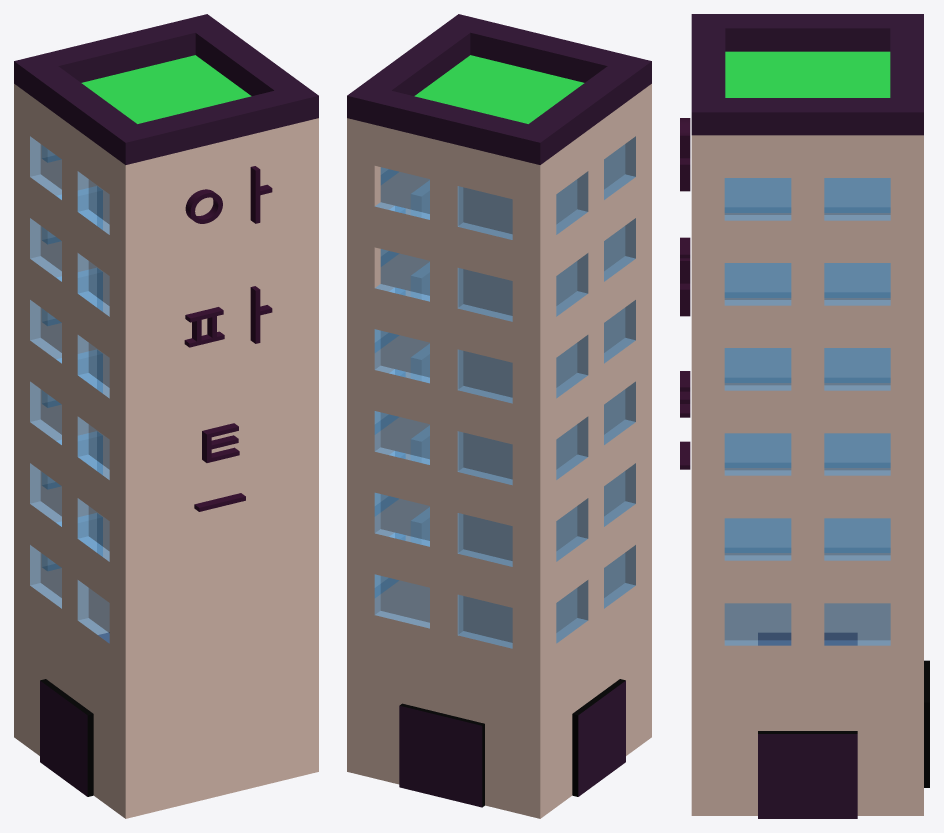
File: apartment.glb
3 views of the same model, side by side, from view 1: azimuth 30°, elevation 25°; view 2: azimuth 150°, elevation 25°; view 3: azimuth 270°, elevation 25° (orthographic). The views are drawn at different scales.
Parts seen in each view (by area): view 1: Cube, Text; view 2: Cube; view 3: Cube, Text.
Part boxes in pixels (bbox=[...]): Cube: bbox=[14, 14, 318, 818]; Text: bbox=[184, 166, 272, 511]; Cube: bbox=[347, 14, 651, 818]; Cube: bbox=[691, 14, 929, 818]; Text: bbox=[680, 118, 690, 469].
Size of the model in its own units: 1.82 by 5.72 by 1.84.
